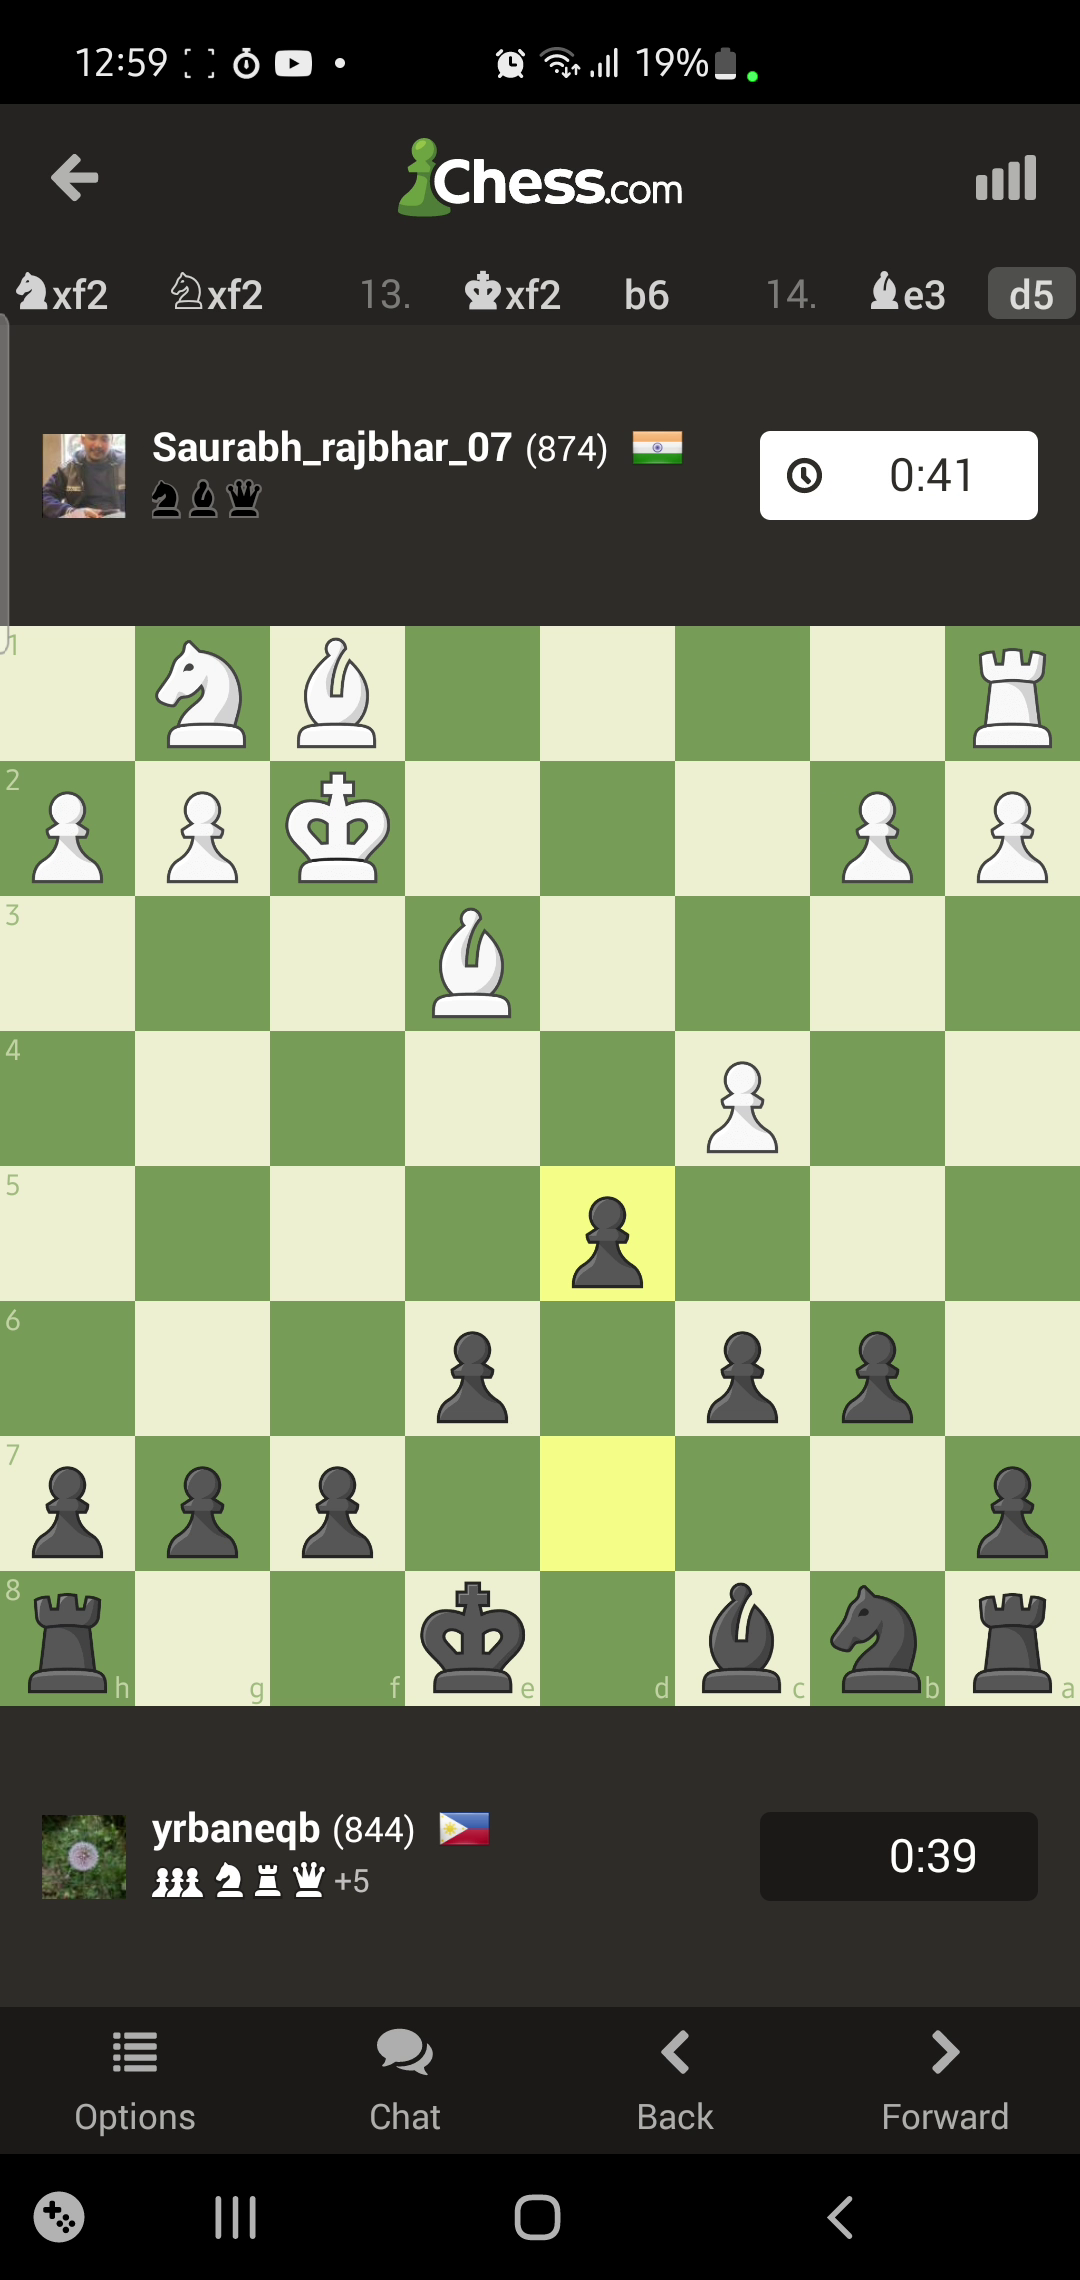king: (285, 769, 392, 883), (420, 1583, 529, 1693)
